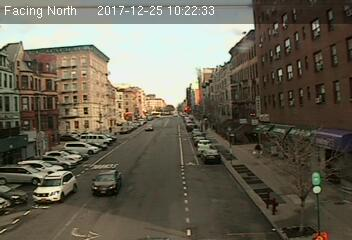car: (29, 170, 78, 202), (91, 170, 123, 195), (201, 148, 220, 160)
